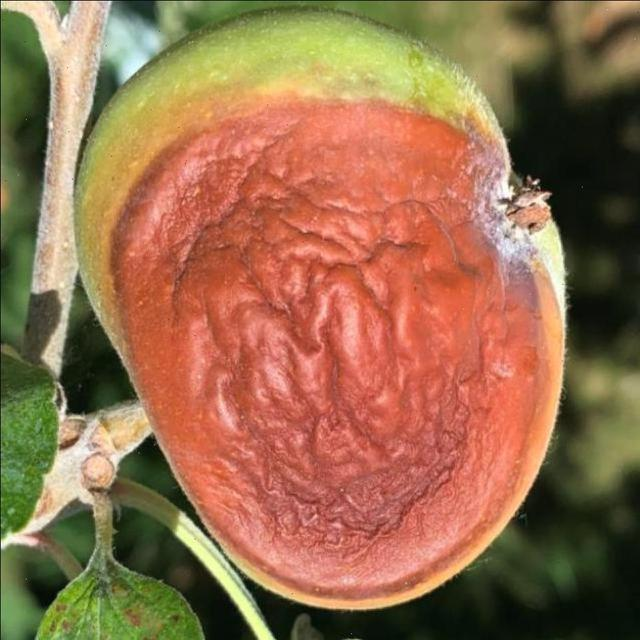Blossom End Rot Fruit: (67, 64, 362, 401)
